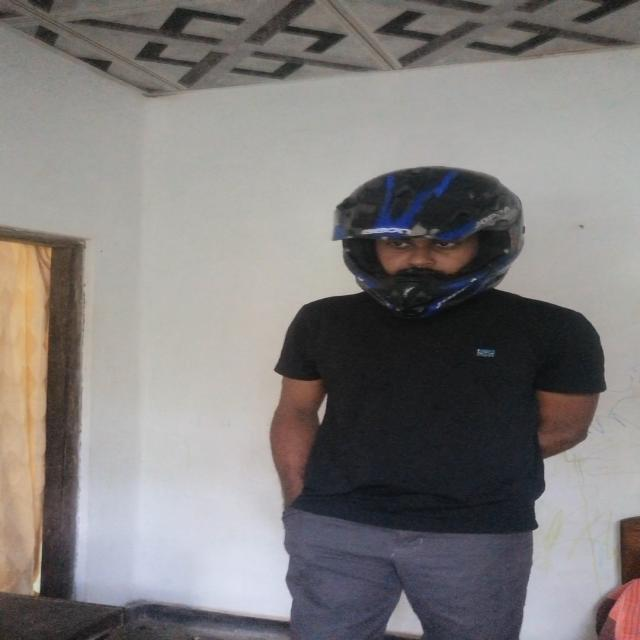Helmet_Wearer: (324, 160, 545, 347)
Person: (283, 175, 597, 640)
